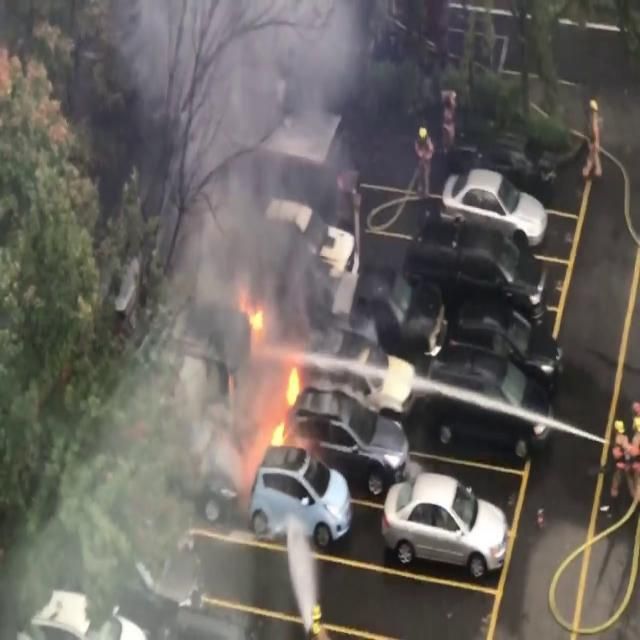Fire: (236, 298, 306, 453)
Smoke: (166, 0, 450, 338)
